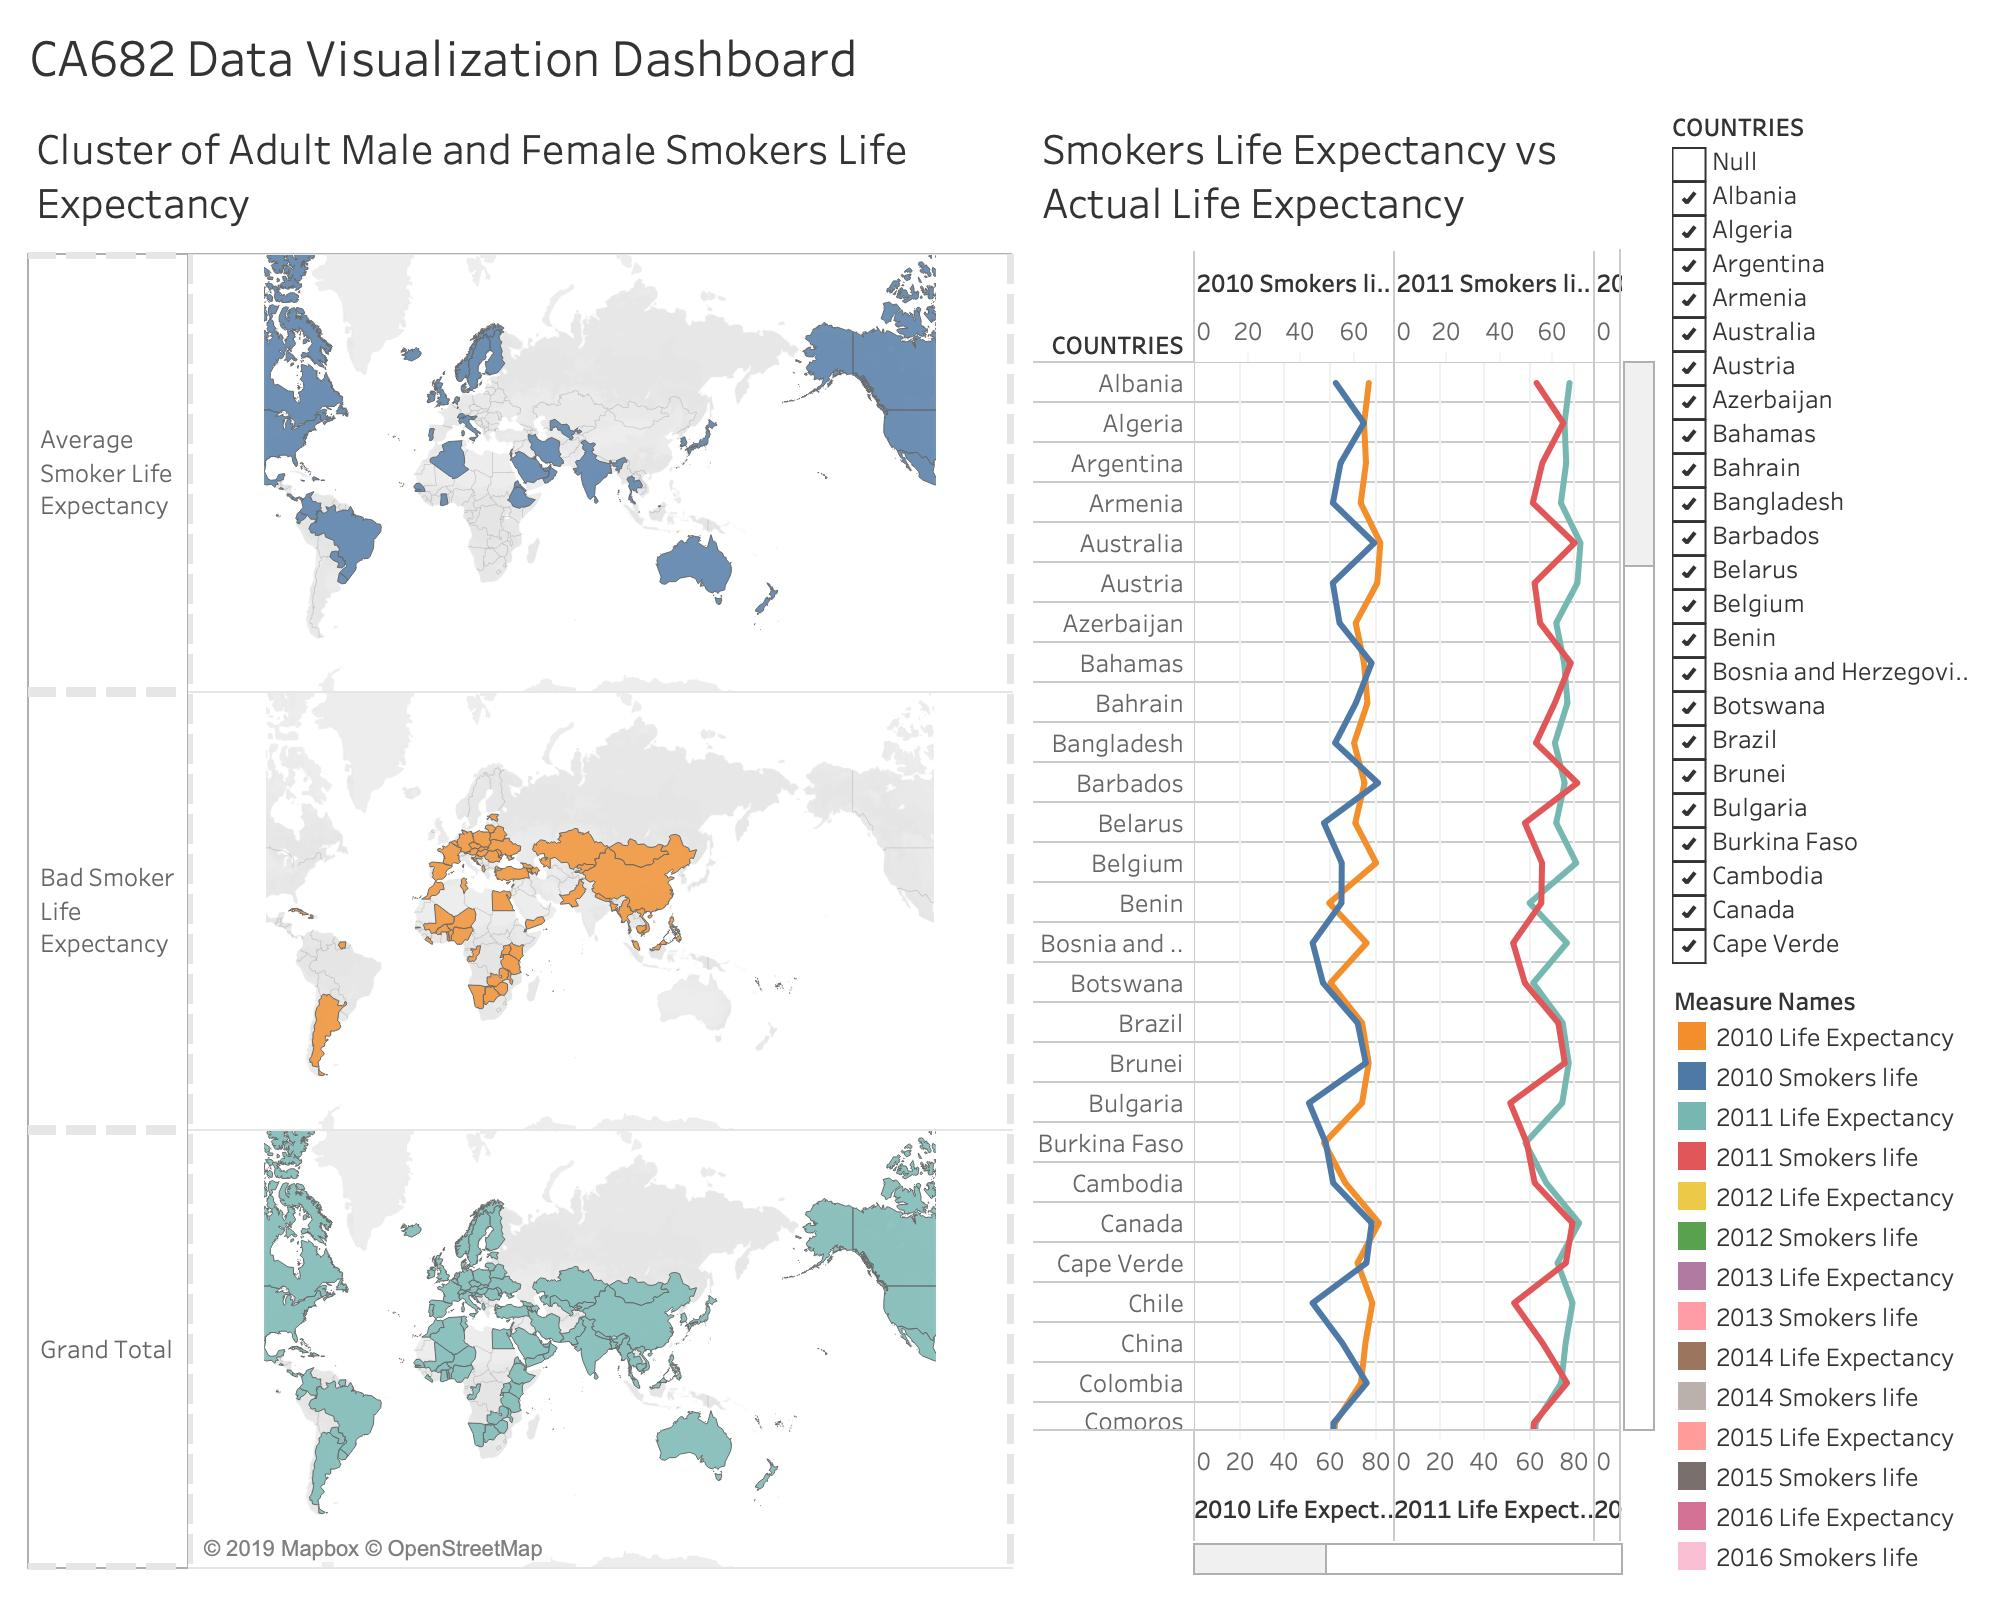

Layout of this report page (visuals, bound fields, positions):
{"tool":"tableau","page":{"name":"CA682_Assignment_Dashboard","canvas":[1000,800],"ordinal":0},"visuals":[{"type":"title","box":[8,8,984,42]},{"type":"worksheet","title":"Smokers_Life_Expectancy_By_Region","mark":"Multipolygon","box":[8,50,505,742]},{"type":"worksheet","title":"Smokers Life Expectancy vs  Actual Life Expectancy","mark":"Line","rows":["country (Life_Expectancy_DataFrame_Filtered.csv) & country"],"cols":["2010 (Life_Expectancy_DataFrame_Filtered.csv)","2010","2011 (Life_Expectancy_DataFrame_Filtered.csv)","2011","2012 (Life_Expectancy_DataFrame_Filtered.csv)","2012","2013 (Life_Expectancy_DataFrame_Filtered.csv)","2013","2014 (Life_Expectancy_DataFrame_Filtered.csv)","2014","2015 (Life_Expectancy_DataFrame_Filtered.csv)","2015"],"box":[513,50,319,742]},{"type":"filter","title":"Smokers Life Expectancy vs  Actual Life Expectancy","param":"[federated.1chprw604o99ts1acqq9p1rsdzkh].[none:country (Life_Expectancy_DataFram","box":[832,50,160,436]},{"type":"legend","title":"Smokers Life Expectancy vs  Actual Life Expectancy","param":"[federated.0h8mvna0hjoi7v1725lc8104r82g].[:Measure Names]","box":[832,486,160,306]}]}

Visuals, with their boxes in screenshot pixels (x1, y1, x2, y2), scaled from the page's 1000x800 canvas onto the 2000x1600 screenshot:
title: (16, 16, 1984, 100)
"Smokers_Life_Expectancy_By_Region" worksheet (Multipolygon marks): (16, 100, 1026, 1584)
"Smokers Life Expectancy vs  Actual Life Expectancy" worksheet (Line marks): (1026, 100, 1664, 1584)
"Smokers Life Expectancy vs  Actual Life Expectancy" filter: (1664, 100, 1984, 972)
"Smokers Life Expectancy vs  Actual Life Expectancy" legend: (1664, 972, 1984, 1584)
